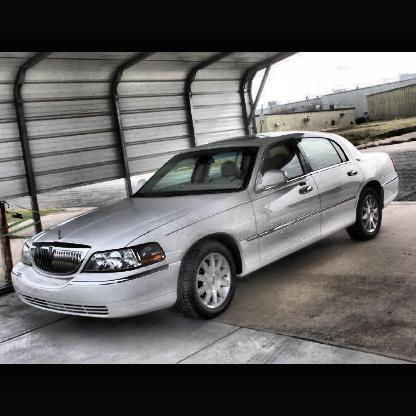Lincoln Town Car Sedan 2011: (10, 127, 403, 329)
